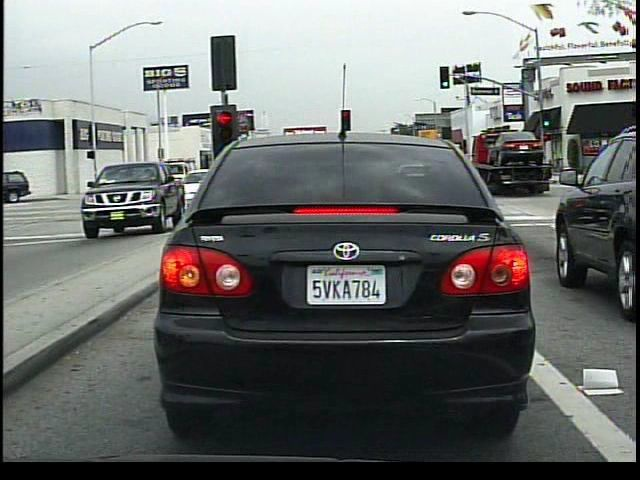person: (175, 169, 197, 195)
